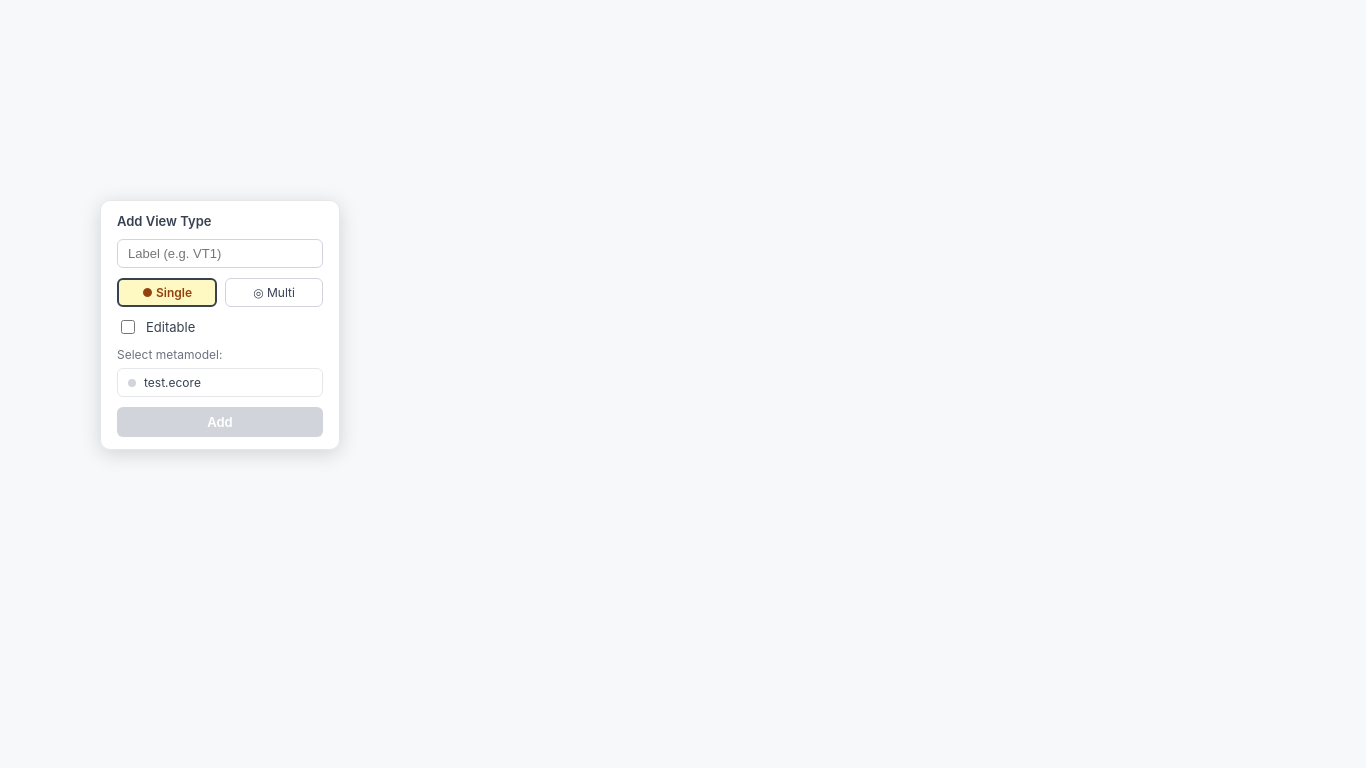
ViewTypeContextMenu › switches to multi scope when Multi is clicked
Click the button "◎ Multi" at (274,292), box [225,278,323,307]
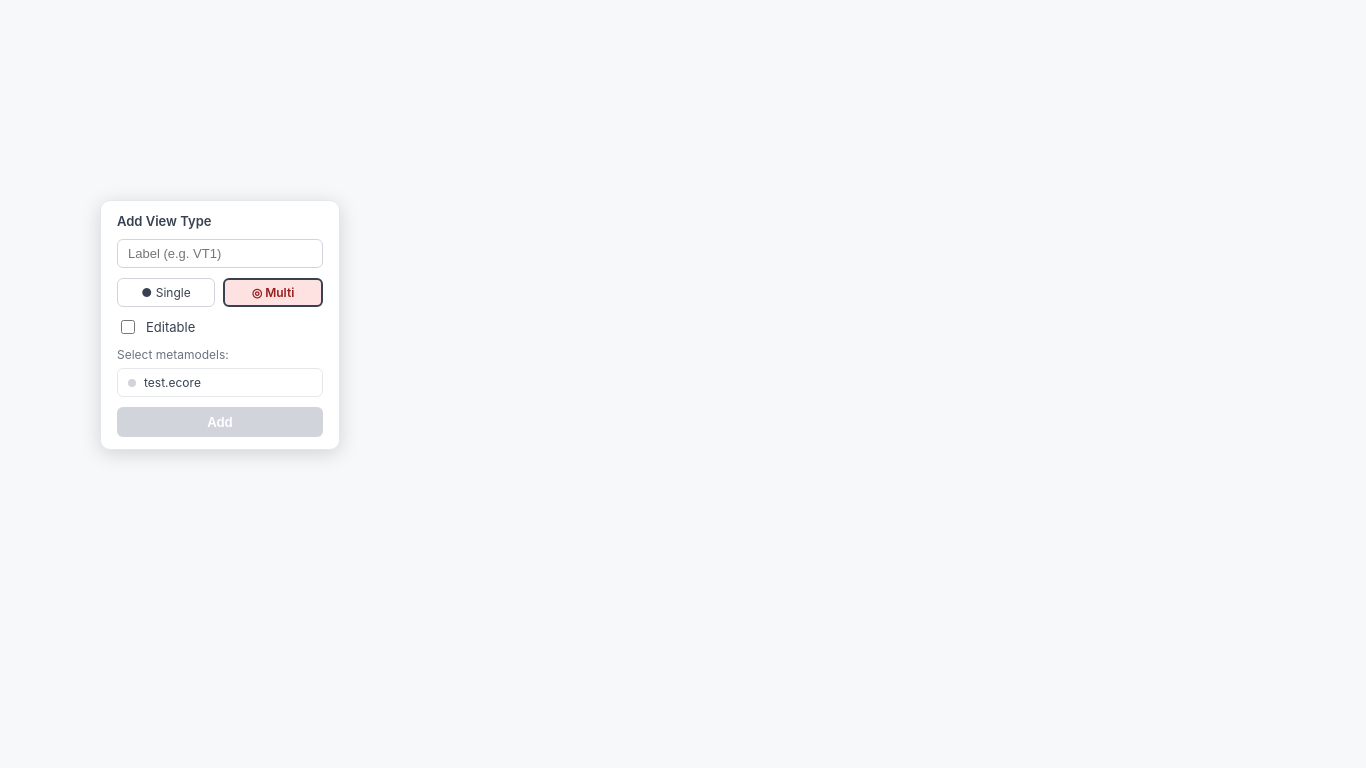
Expected: the text "Select metamodels:" is shown, [117,347,229,362]
